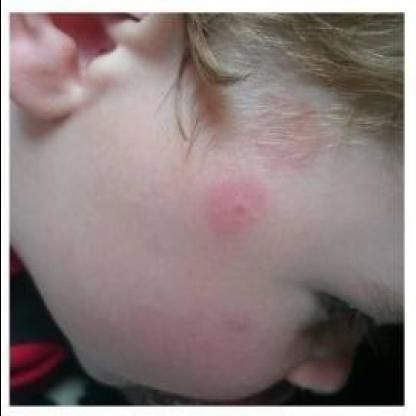Tick: (206, 170, 270, 242)
